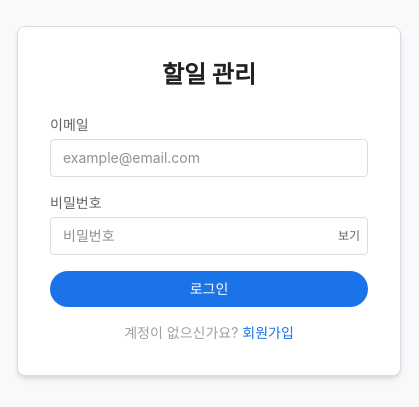
Test: LoginPage › 잘못된 이메일 형식 입력 시 에러 메시지를 표시한다
In the field labelled "이메일": (209, 158) [50,139,368,177], type "invalid-email"
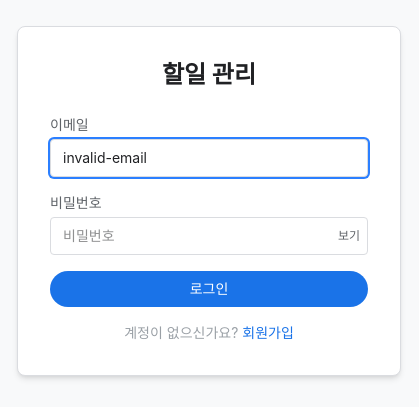
In the password field labelled "비밀번호": (209, 236) [50,217,368,255], type "password"
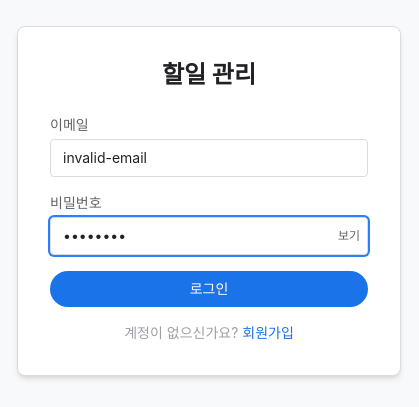
Click the button "로그인": (209, 289) [50,271,368,307]
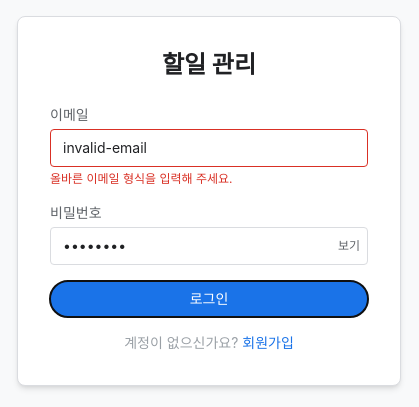
expect the text "올바른 이메일 형식을 입력해 주세요." is shown: met, box [50,171,233,186]
